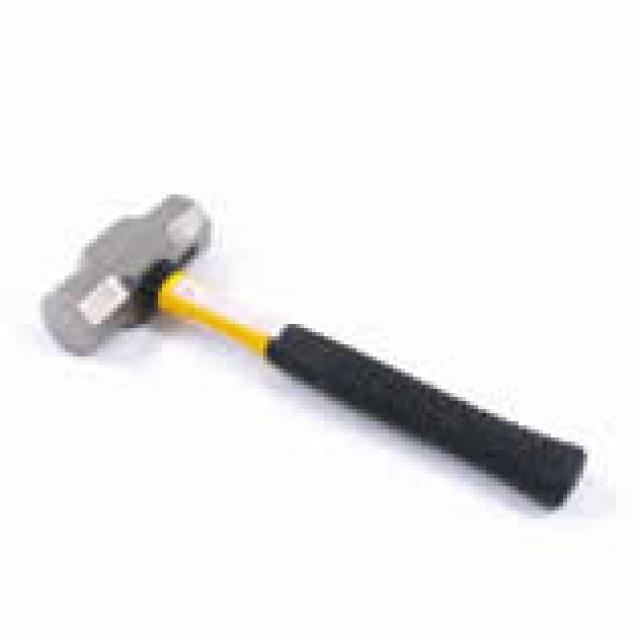hammer: (32, 182, 596, 528)
